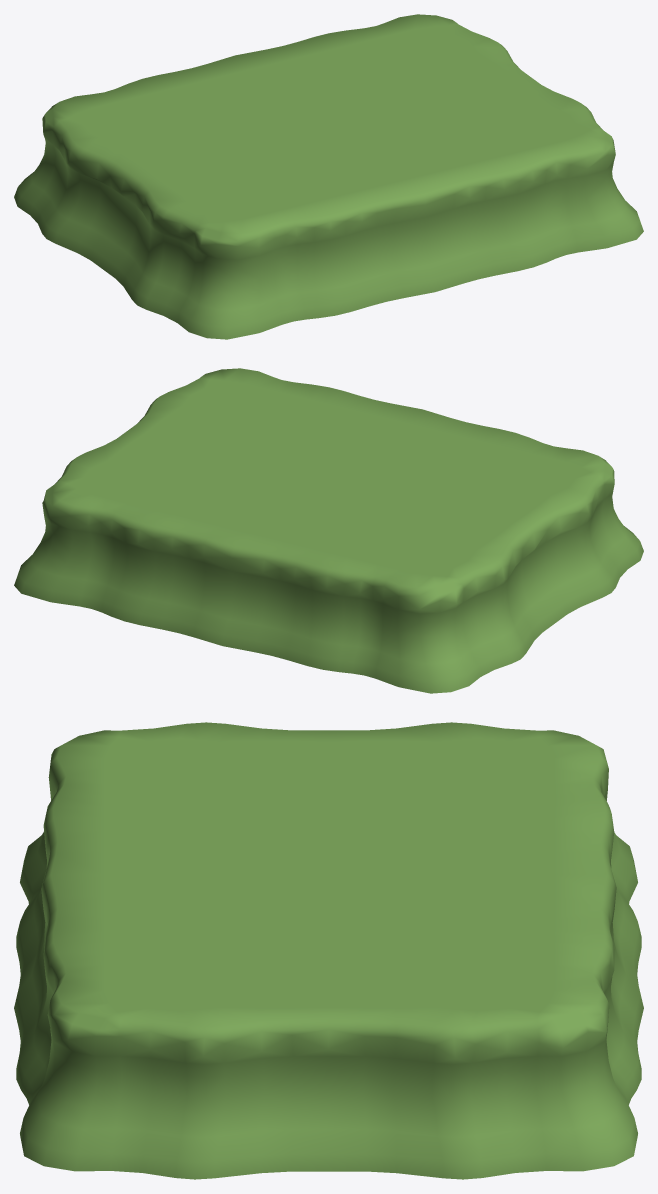
File: hill_model.glb
The picture shows the model from 3 angles, top to bottom: view 1: azimuth 30°, elevation 25°; view 2: azimuth 150°, elevation 25°; view 3: azimuth 270°, elevation 25°; orthographic projection. The views are drawn at different scales.
Visible parts, largest first — view 1: hill_t10; view 2: hill_t10; view 3: hill_t10.
Boxes of the visible parts, x1,y1,x2,y2 form: hill_t10: [14, 14, 643, 339]; hill_t10: [14, 368, 643, 693]; hill_t10: [14, 722, 643, 1179].
Size of what is drawn, in the model's own units: 54.82 by 9.96 by 42.58.
